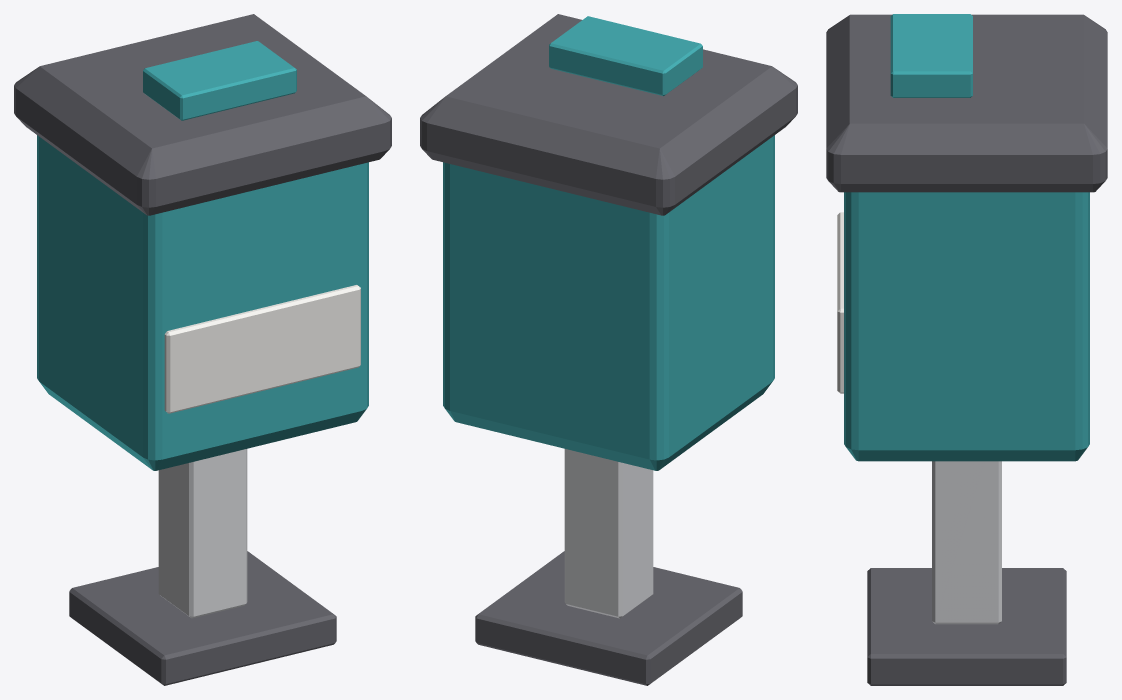
File: street-bin.glb
3 views of the same model, side by side, from view 1: azimuth 30°, elevation 25°; view 2: azimuth 150°, elevation 25°; view 3: azimuth 270°, elevation 25° (orthographic). The views are drawn at different scales.
Parts seen in each view (by area): view 1: car-park-litter-bin, bin-lid/dark, bin-lid/accent; view 2: car-park-litter-bin, bin-lid/dark, bin-lid/accent; view 3: car-park-litter-bin, bin-lid/dark, bin-lid/accent.
Boxes of the visible parts, <box> form: car-park-litter-bin: <box>37,135,368,685</box>; bin-lid/dark: <box>14,14,391,215</box>; bin-lid/accent: <box>143,41,296,120</box>; car-park-litter-bin: <box>443,135,774,685</box>; bin-lid/dark: <box>420,14,797,215</box>; bin-lid/accent: <box>549,16,702,96</box>; car-park-litter-bin: <box>837,192,1089,685</box>; bin-lid/dark: <box>826,14,1107,192</box>; bin-lid/accent: <box>890,14,972,97</box>.
Bounding box in the file's own units: 0.52 × 1.13 × 0.48.
